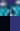recallP: (0, 0, 10, 16), (10, 0, 20, 16)
